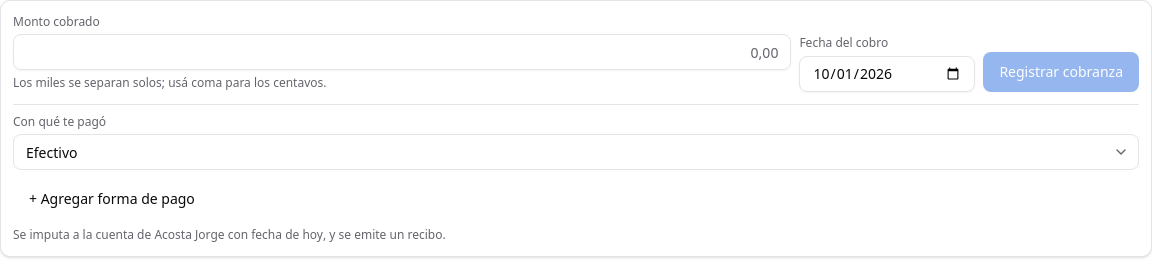
Test: FormularioImputacion › avisa cuando la plata no es de hoy
Type "2026-07-20" into the date field labelled "Fecha del cobro".
click(887, 74); type("2026-07-20")  # box [799,56,975,92]
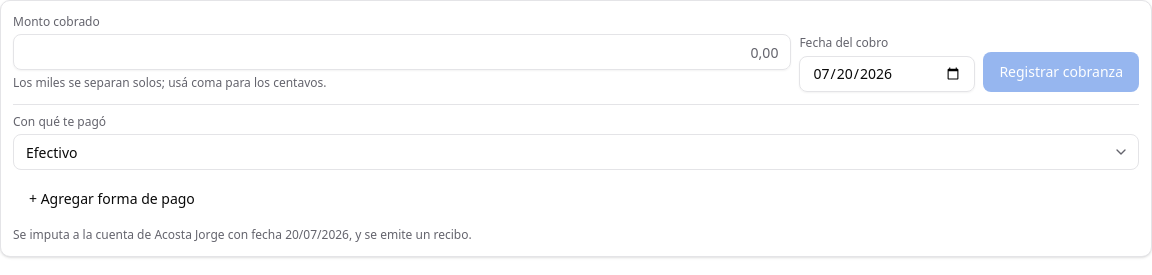
Now the text "con fecha" shows "20/07/2026", box [285,226,349,243]
